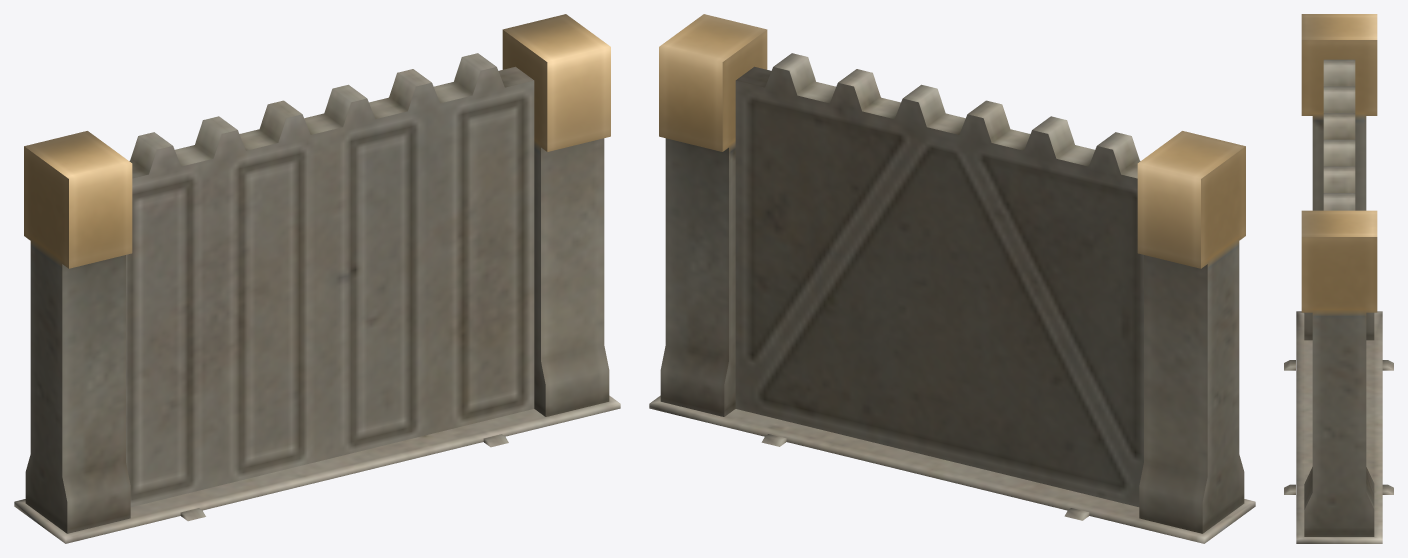
File: Wall_High_Doorway.FBX
3 renders of one model, left to right at view 1: azimuth 30°, elevation 25°; view 2: azimuth 150°, elevation 25°; view 3: azimuth 270°, elevation 25°, orthographic. The views are drawn at different scales.
Visible parts, largest first — view 1: Wall_High_Door, Wall_High_Doorway; view 2: Wall_High_Door, Wall_High_Doorway; view 3: Wall_High_Doorway, Wall_High_Door.
Boxes of the visible parts, left/top/right/bottom form: Wall_High_Door: left=126, top=53, right=534, bottom=506; Wall_High_Doorway: left=14, top=14, right=620, bottom=543; Wall_High_Door: left=735, top=53, right=1143, bottom=506; Wall_High_Doorway: left=649, top=14, right=1255, bottom=543; Wall_High_Doorway: left=1284, top=14, right=1393, bottom=543; Wall_High_Door: left=1323, top=59, right=1355, bottom=210.
Bounding box in the file's own units: 928 × 577 × 189.
